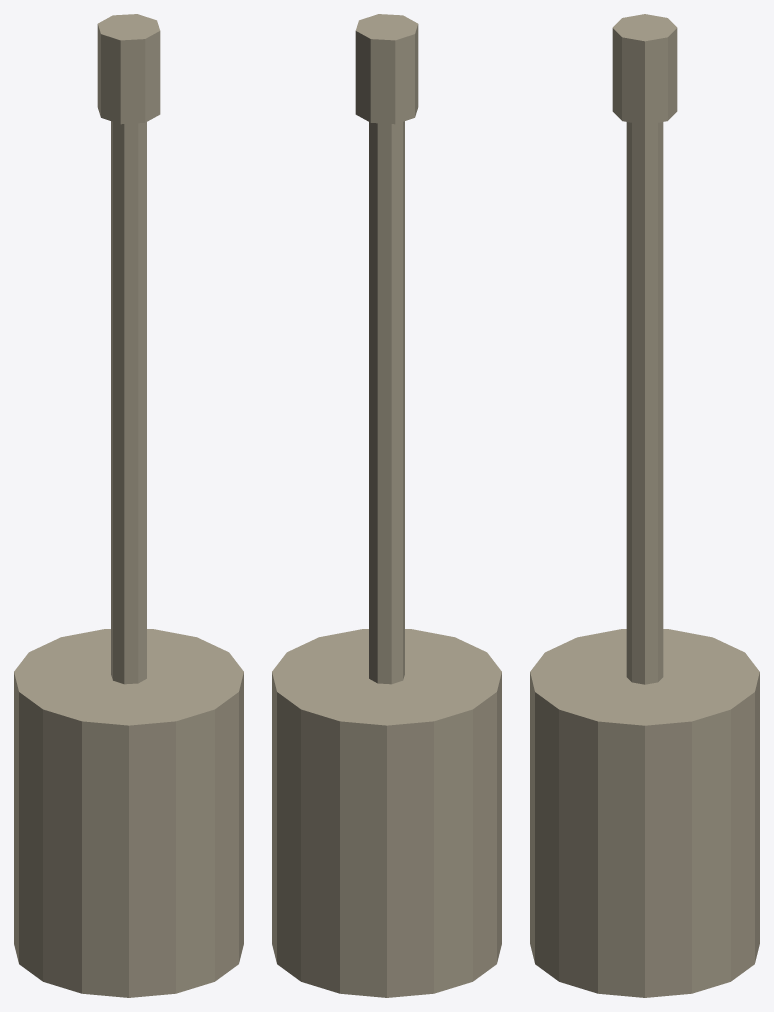
The model's file is toilet-brush.glb.
3 renders of one model, left to right at view 1: azimuth 30°, elevation 25°; view 2: azimuth 150°, elevation 25°; view 3: azimuth 270°, elevation 25°, orthographic.
Parts seen in each view (by area): view 1: plastic-light; view 2: plastic-light; view 3: plastic-light.
Boxes of the visible parts, left/top/right/bottom form: plastic-light: left=14, top=14, right=243, bottom=997; plastic-light: left=272, top=14, right=501, bottom=997; plastic-light: left=530, top=14, right=759, bottom=997.
Size of the model in its own units: 0.0989 by 0.44 by 0.0995.
